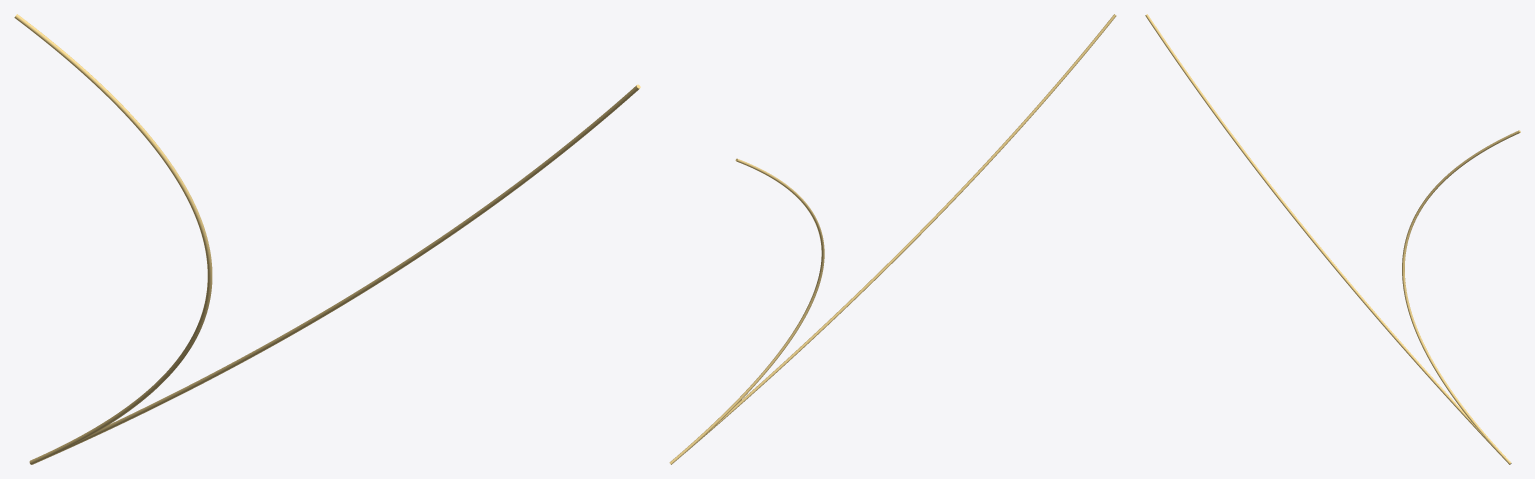
The model's file is SitchSTRINGS.gltf.
3 views of the same model, side by side, from view 1: azimuth 90°, elevation 25°; view 2: azimuth 150°, elevation 25°; view 3: azimuth 270°, elevation 25° (orthographic). The views are drawn at different scales.
Visible parts, largest first — view 1: SitchSTRINGS; view 2: SitchSTRINGS; view 3: SitchSTRINGS.
Part boxes in pixels (box(x1,y1,x2,y2)): SitchSTRINGS: box(14, 14, 640, 464); SitchSTRINGS: box(669, 14, 1116, 464); SitchSTRINGS: box(1145, 14, 1520, 464).
Bounding box in the file's own units: 9.29 × 13.02 × 13.06.
